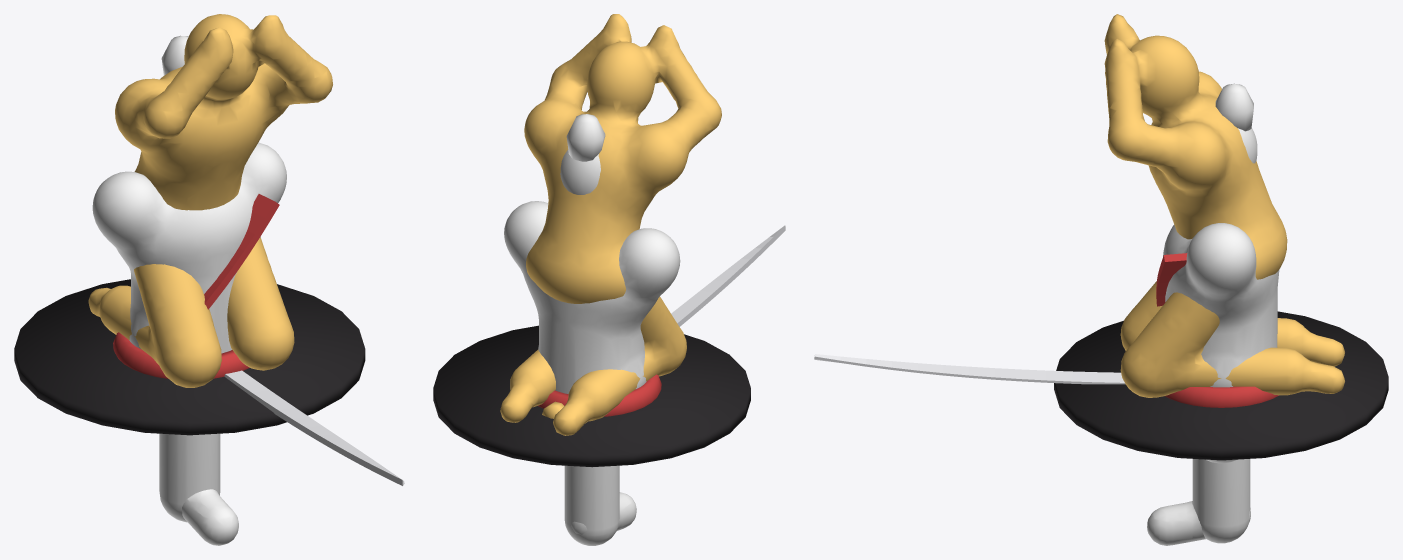
File: Figures.glb
3 views of the same model, side by side, from view 1: azimuth 30°, elevation 25°; view 2: azimuth 150°, elevation 25°; view 3: azimuth 270°, elevation 25° (orthographic). The views are drawn at different scales.
Parts seen in each view (by area): view 1: Kneeler__Gold_1, Kneeler__MarbleDark_S1, BroTorso__Body_1, BroThigh__Body_1, BroSword__Blade_1, BroShin__Body_1, BroTorso__Sash_1, BroPelvis__Sash_1; view 2: Kneeler__Gold_1, Kneeler__MarbleDark_S1, BroTorso__Body_1, BroThigh__Body_1, BroSword__Blade_1, BroPelvis__Sash_1, BroShin__Body_1; view 3: Kneeler__Gold_1, Kneeler__MarbleDark_S1, BroTorso__Body_1, BroThigh__Body_1, BroSword__Blade_1, BroShin__Body_1, BroPelvis__Sash_1, BroTorso__Sash_1.
Part boxes in pixels (<box>): Kneeler__Gold_1: <box>88,14,332,387</box>; Kneeler__MarbleDark_S1: <box>14,279,365,435</box>; BroTorso__Body_1: <box>92,35,286,353</box>; BroThigh__Body_1: <box>159,433,220,522</box>; BroSword__Blade_1: <box>224,370,404,485</box>; BroShin__Body_1: <box>182,489,238,545</box>; BroTorso__Sash_1: <box>204,194,279,309</box>; BroPelvis__Sash_1: <box>113,332,249,378</box>; Kneeler__Gold_1: <box>500,14,721,435</box>; Kneeler__MarbleDark_S1: <box>433,325,750,467</box>; BroTorso__Body_1: <box>504,114,680,393</box>; BroThigh__Body_1: <box>564,465,619,545</box>; BroSword__Blade_1: <box>671,225,785,326</box>; BroPelvis__Sash_1: <box>538,374,661,416</box>; BroShin__Body_1: <box>571,492,636,534</box>; Kneeler__Gold_1: <box>1104,14,1344,397</box>; Kneeler__MarbleDark_S1: <box>1054,311,1388,460</box>; BroTorso__Body_1: <box>1163,83,1279,387</box>; BroThigh__Body_1: <box>1192,459,1250,543</box>; BroSword__Blade_1: <box>814,354,1125,384</box>; BroShin__Body_1: <box>1147,501,1250,545</box>; BroPelvis__Sash_1: <box>1165,386,1278,407</box>; BroTorso__Sash_1: <box>1156,253,1187,306</box>.
Bounding box in the file's own units: 5.2 × 8.86 × 8.93.
